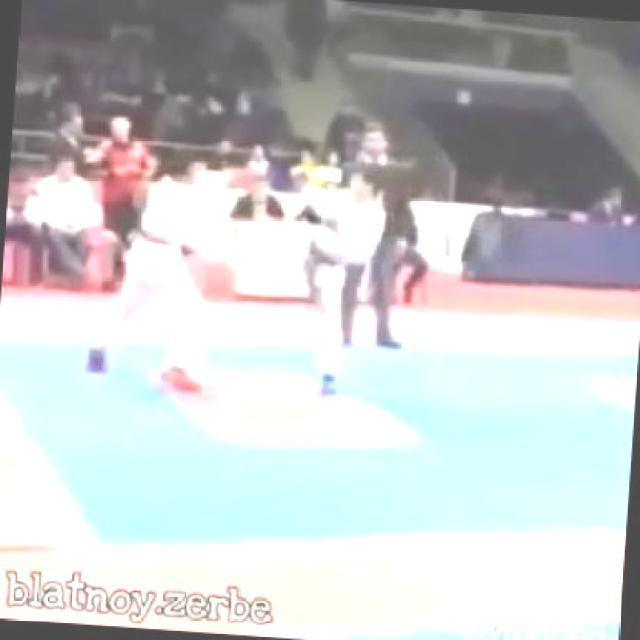fight: (83, 148, 386, 404)
